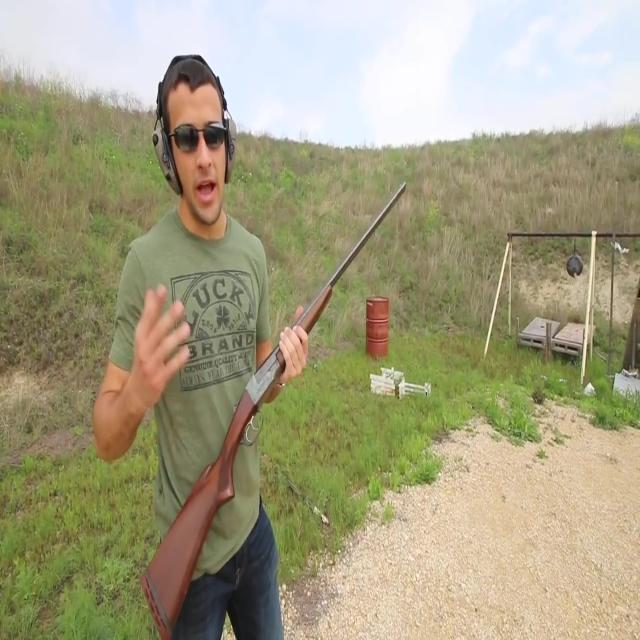Weapon: (135, 171, 469, 640)
